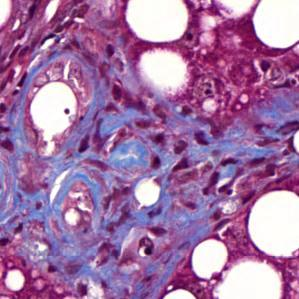steatosis: (191, 237, 230, 279)
